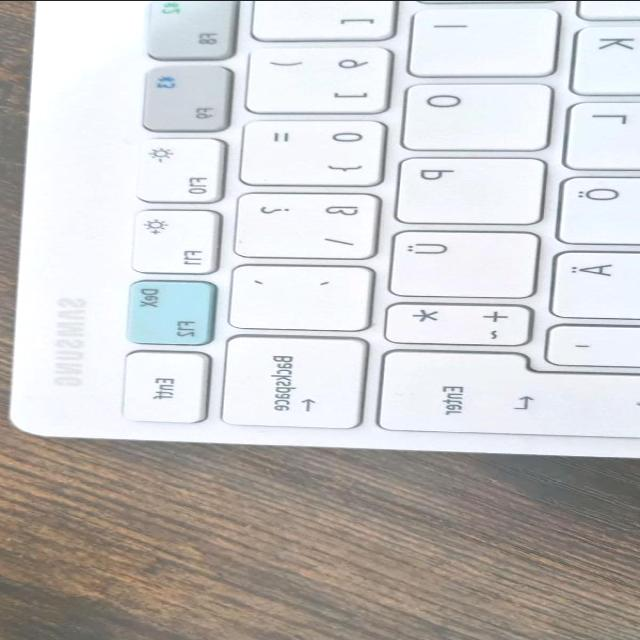0: (231, 115, 387, 185)
7: (245, 0, 402, 15)
8: (242, 0, 400, 39)
9: (236, 42, 393, 113)
accent: (219, 262, 371, 330)
ae: (543, 247, 640, 319)
del: (211, 331, 365, 429)
enter: (362, 344, 640, 439)
hash: (536, 322, 640, 367)
i: (397, 3, 559, 76)
j: (569, 0, 640, 26)
k: (563, 20, 640, 94)
keyboard: (2, 0, 640, 461)
l: (557, 97, 640, 169)
o: (392, 77, 552, 150)
oe: (548, 172, 640, 244)
p: (383, 153, 545, 224)
plus: (372, 299, 530, 343)
ss: (226, 188, 380, 258)
u: (402, 0, 568, 27)
ue: (380, 226, 540, 297)
